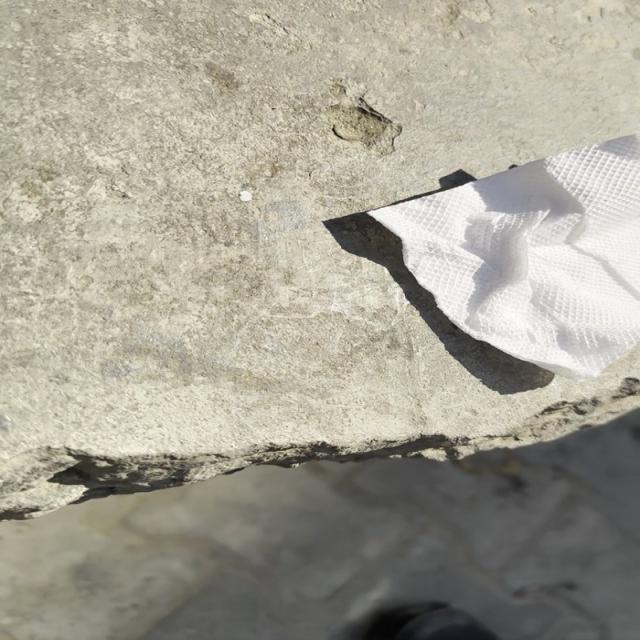tissue: (365, 129, 640, 385)
